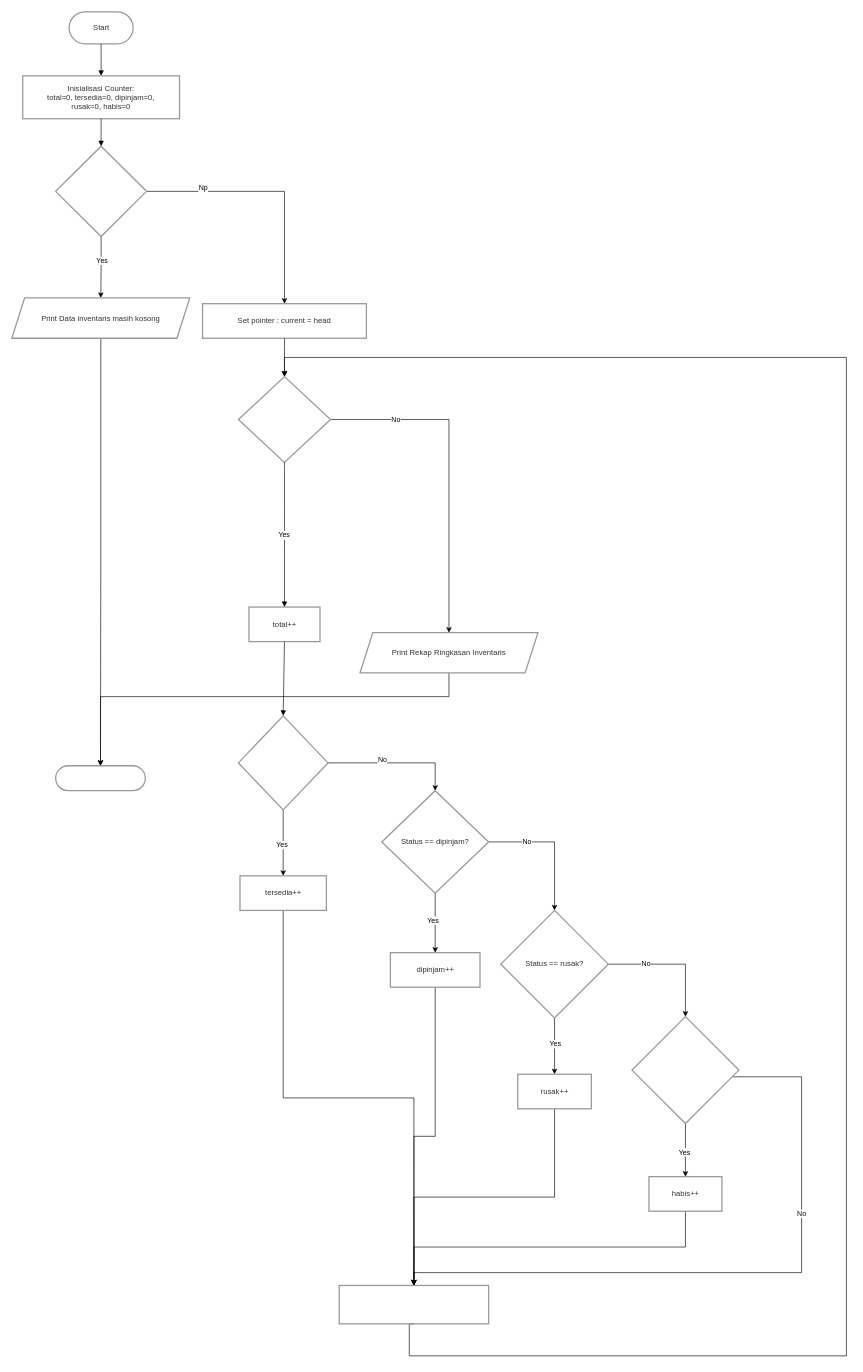
Image size: 863x1372. Some labels were removed from this diagram. The shapes that lost their labels are listed below. From the top down, each one's box as (x1, y1, x2, y2) in pixels, then its label:
(55, 145, 147, 237): head == NULL?
(237, 376, 331, 463): current != NULL?
(55, 765, 146, 791): End / Return
(237, 715, 328, 810): Status == tersedia?
(631, 1016, 739, 1124): Status == habis?
(338, 1284, 489, 1324): Geser pointer : current = current->next
